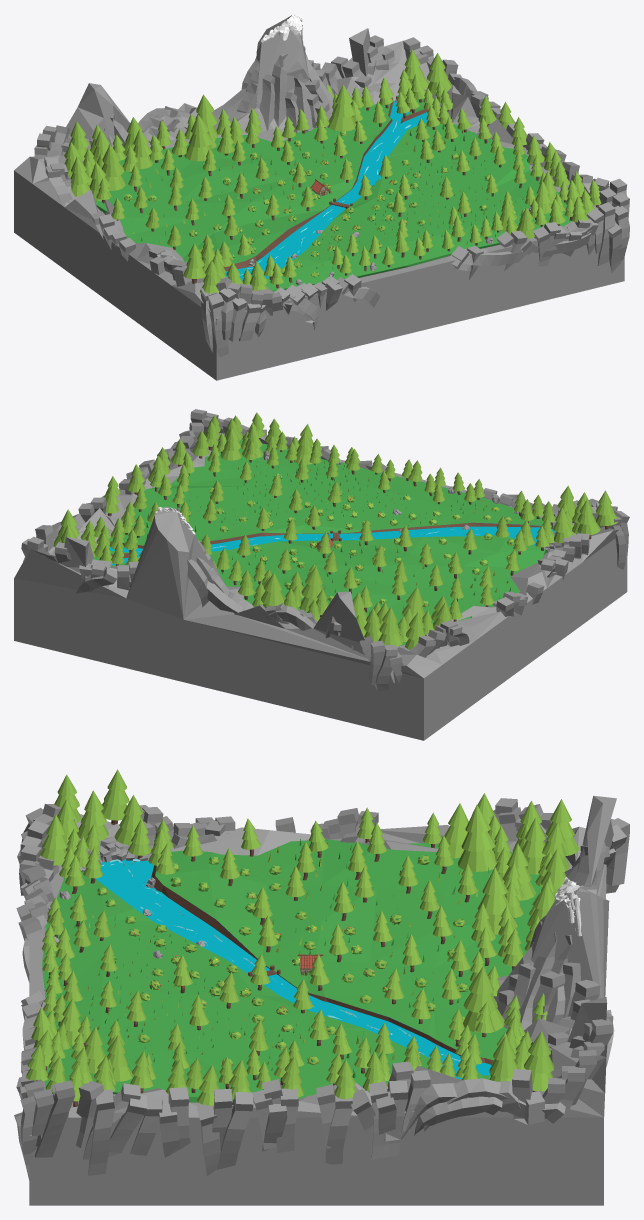
The model's file is world.glb.
3 renders of one model, top to bottom at view 1: azimuth 30°, elevation 25°; view 2: azimuth 150°, elevation 25°; view 3: azimuth 270°, elevation 25°, orthographic. The views are drawn at different scales.
Parts seen in each view (by area): view 1: Node; view 2: Node; view 3: Node.
Part boxes in pixels (<box>): Node: <box>14,14,629,380</box>; Node: <box>14,409,629,740</box>; Node: <box>14,769,629,1205</box>.
Size of the model in its own units: 4.8 by 1.72 by 4.24.
